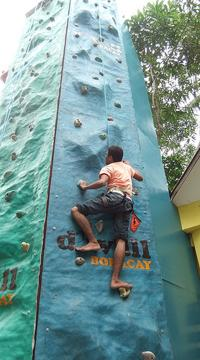person: (71, 146, 145, 288)
